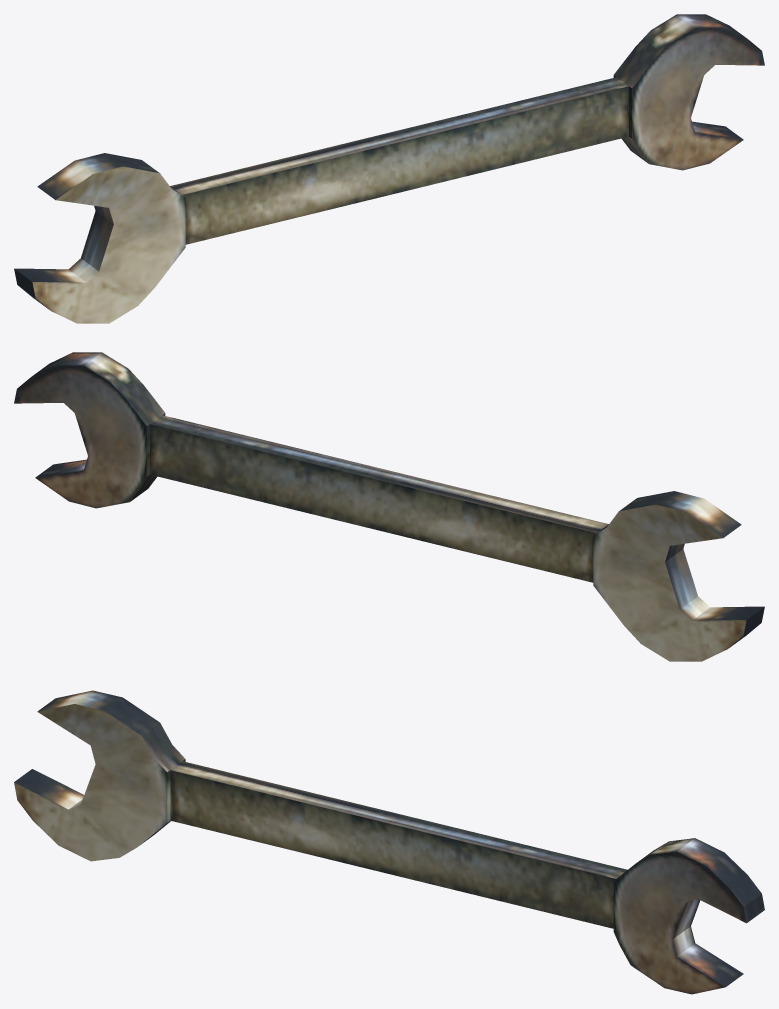
Rendered from wrench S.fbx.
The picture shows the model from 3 angles, top to bottom: view 1: azimuth 30°, elevation 25°; view 2: azimuth 150°, elevation 25°; view 3: azimuth 330°, elevation 25°; orthographic projection.
Parts seen in each view (by area): view 1: wrench_s; view 2: wrench_s; view 3: wrench_s.
Boxes of the visible parts, bbox=[...] form: wrench_s: bbox=[14, 14, 764, 323]; wrench_s: bbox=[14, 352, 764, 661]; wrench_s: bbox=[14, 690, 764, 994].
Bounding box in the file's own units: 0.3248 × 0.0652 × 0.0141.
